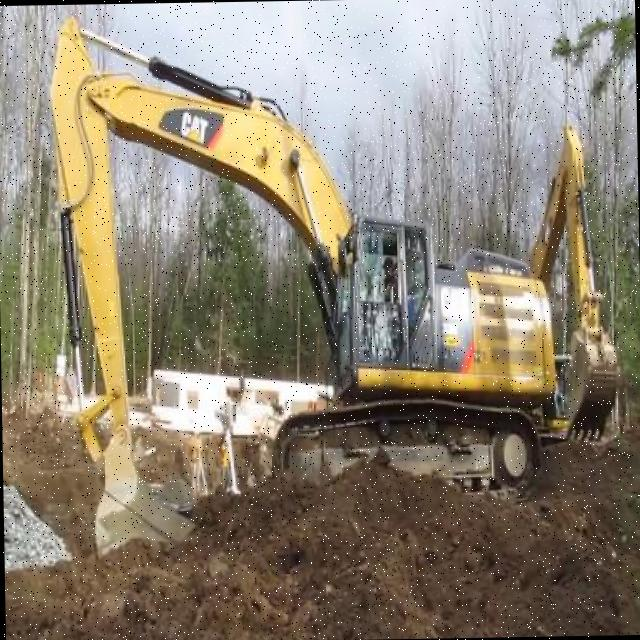Excavator: (37, 0, 561, 559), (516, 108, 610, 454)
